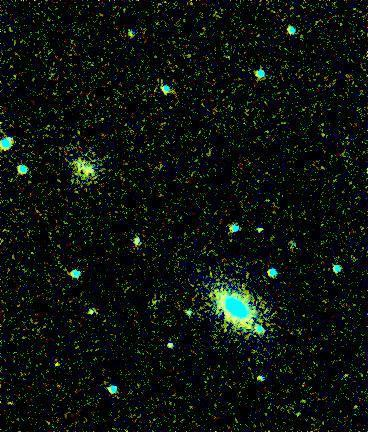star: (48, 350, 78, 380)
